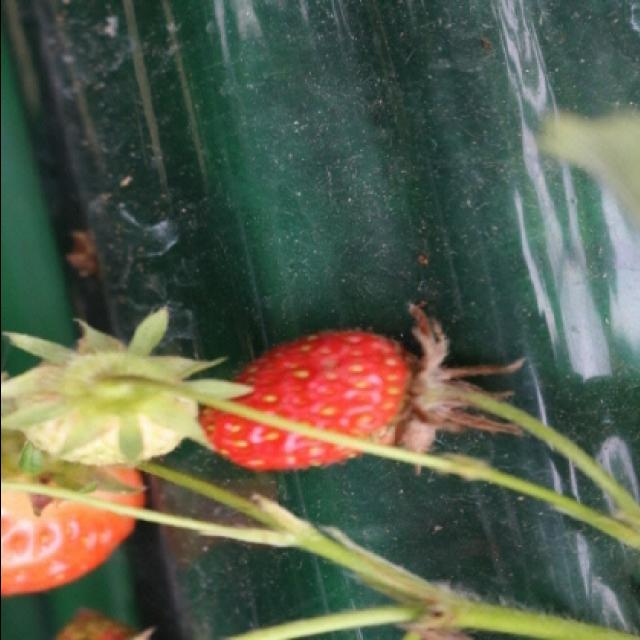Gray Mold: (381, 298, 525, 477)
